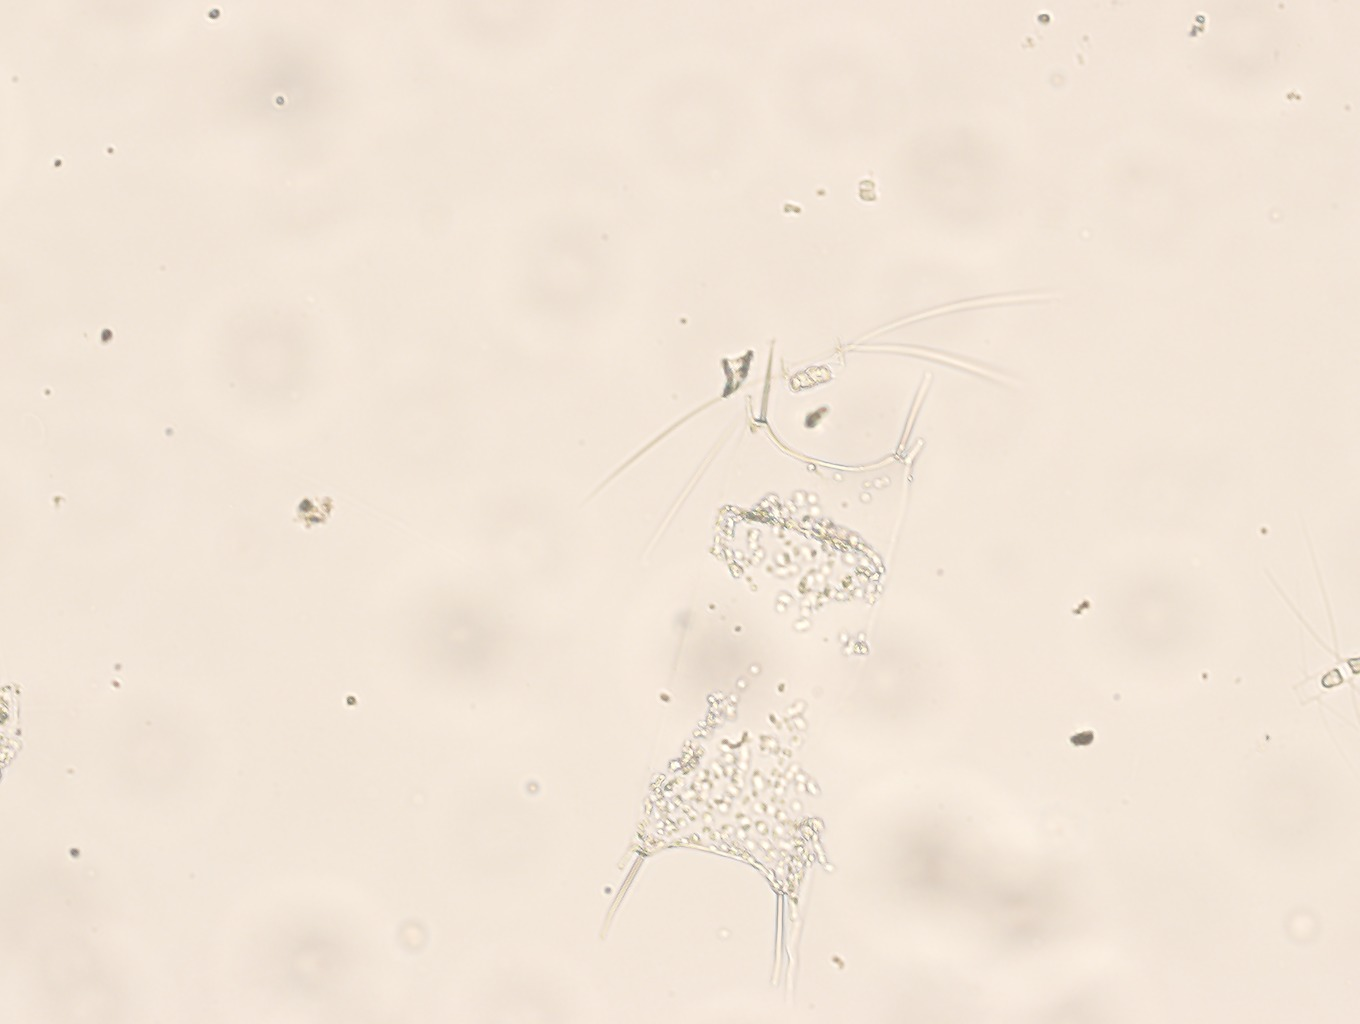biddulphia: (595, 340, 934, 987)
chaetoceros: (592, 290, 1073, 557)
